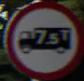Heavy Vehicles: (9, 2, 77, 75)
